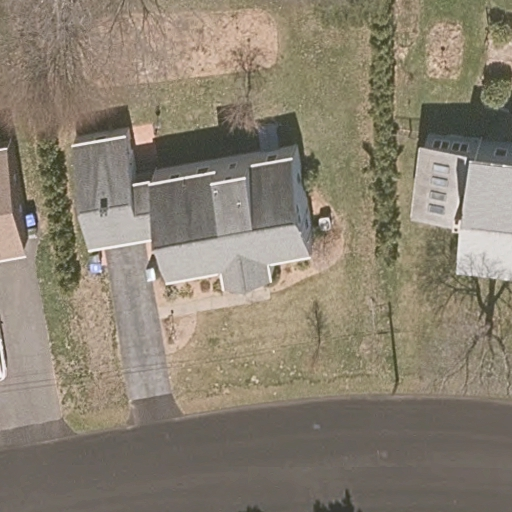DT: (387, 300, 400, 382)
